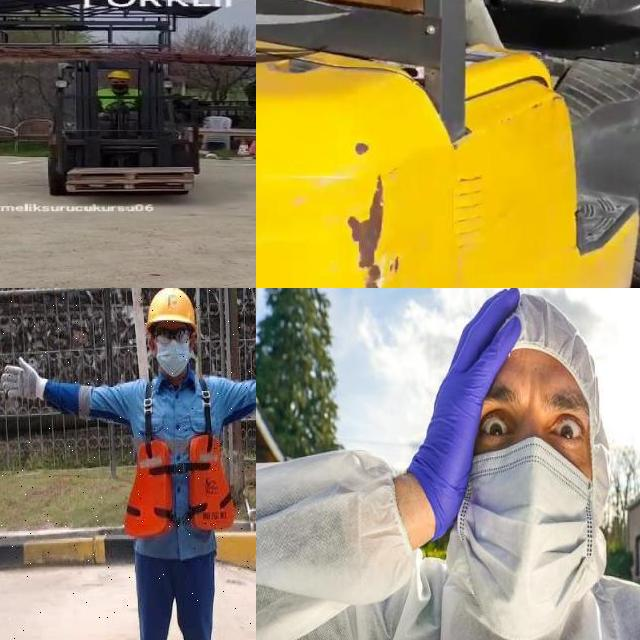GLASS: (149, 325, 198, 345)
GLOVE: (2, 357, 47, 402)
Glove: (409, 288, 522, 548)
HELMET: (141, 288, 204, 337)
MASK: (468, 442, 592, 640)
VEST: (124, 434, 236, 536)
